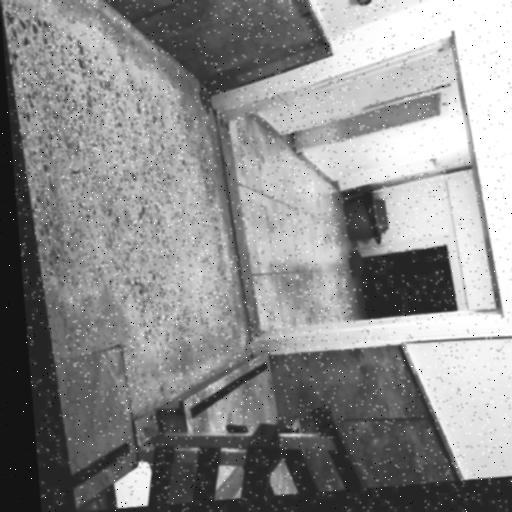balloon: (341, 251, 367, 288)
